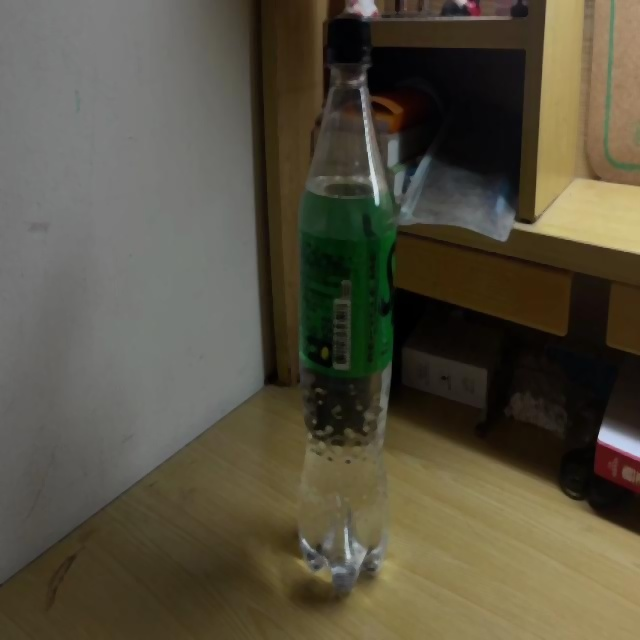Sprite: (297, 12, 393, 599)
